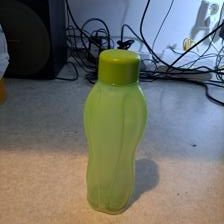bottle: (81, 45, 149, 215)
